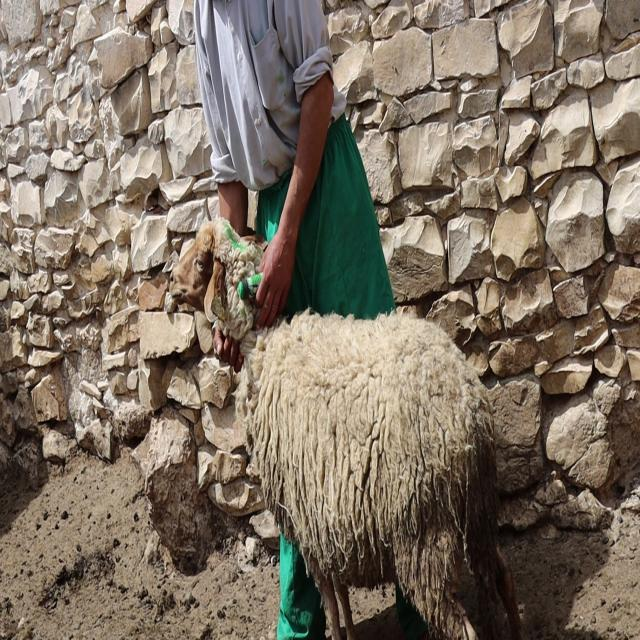Score_3: (169, 219, 521, 639)
